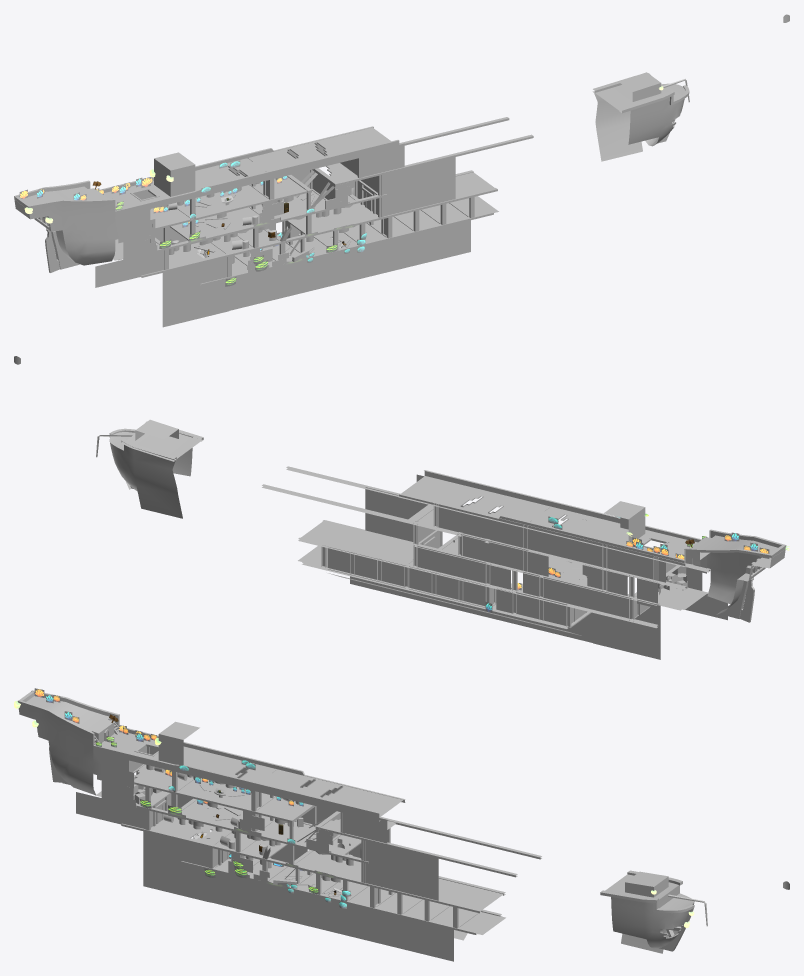
Rendered from Level1Ship.fbx.
3 renders of one model, top to bottom at view 1: azimuth 30°, elevation 25°; view 2: azimuth 150°, elevation 25°; view 3: azimuth 330°, elevation 25°, orthographic.
Parts seen in each view (by area): view 1: Level1_Ship; view 2: Level1_Ship; view 3: Level1_Ship.
Boxes of the visible parts, x1=… form: Level1_Ship: x1=14, y1=72, x2=689, y2=327; Level1_Ship: x1=96, y1=419, x2=789, y2=659; Level1_Ship: x1=14, y1=688, x2=707, y2=961.
Bounding box in the file's own units: 19194 × 3664 × 1285.
